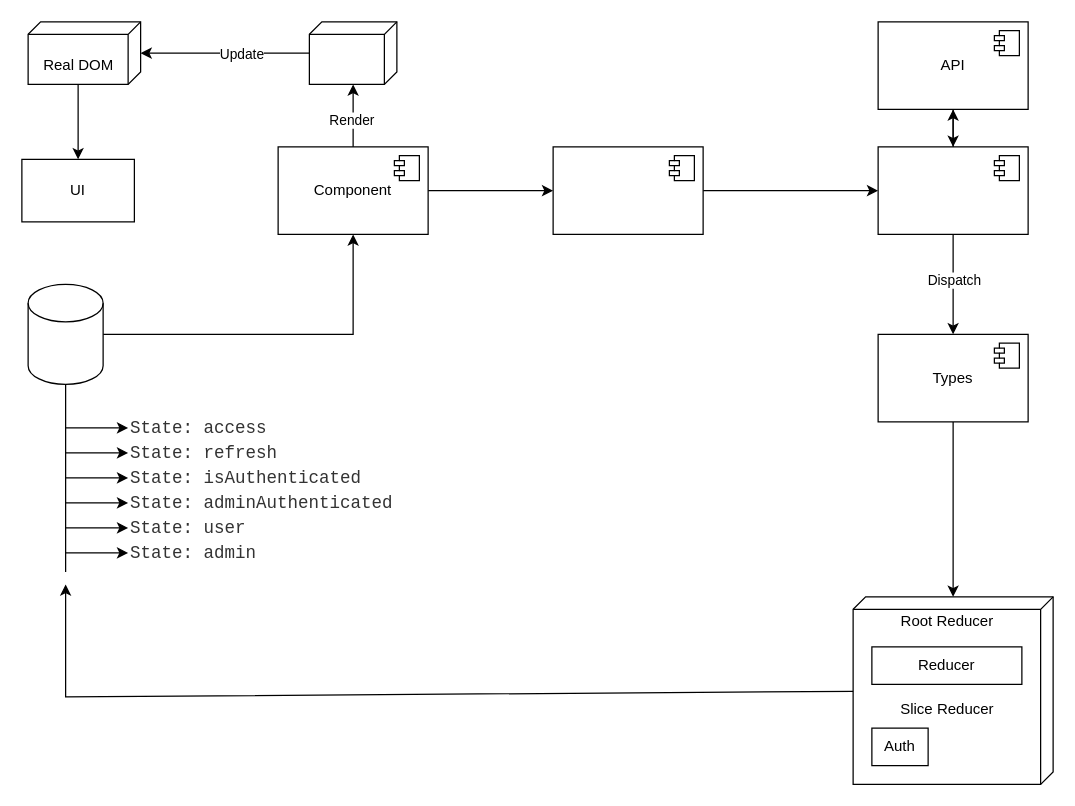
Some shapes in this 1075 by 806 pixel diagram are drawn without their labels. Here are the shapes that lost their labels. From the top down, the centre of each, then its label:
At (352,52): "vDOM".
At (627,190): "Event Handler (onClick())".
At (952,190): "Middleware (Admin Action, Auth Action)".
At (65,333): "Data Store".
